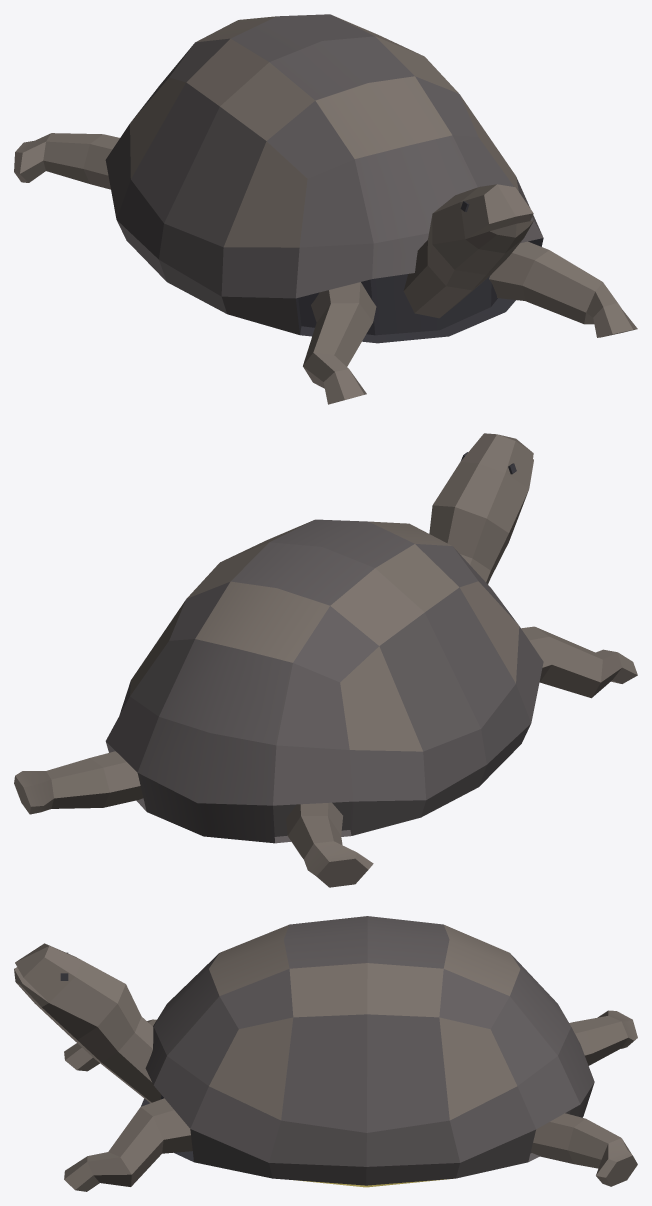
File: Mesh_Turtle.obj
The picture shows the model from 3 angles, top to bottom: view 1: azimuth 30°, elevation 25°; view 2: azimuth 150°, elevation 25°; view 3: azimuth 270°, elevation 25°; orthographic projection. The views are drawn at different scales.
Parts seen in each view (by area): view 1: Geo_Turtle; view 2: Geo_Turtle; view 3: Geo_Turtle.
Boxes of the visible parts, x1=… form: Geo_Turtle: x1=14, y1=14, x2=637, y2=404; Geo_Turtle: x1=14, y1=433, x2=637, y2=887; Geo_Turtle: x1=14, y1=916, x2=637, y2=1191.
Size of the model in its own units: 32.02 by 19.87 by 53.67.
1 material, 1 textured.
